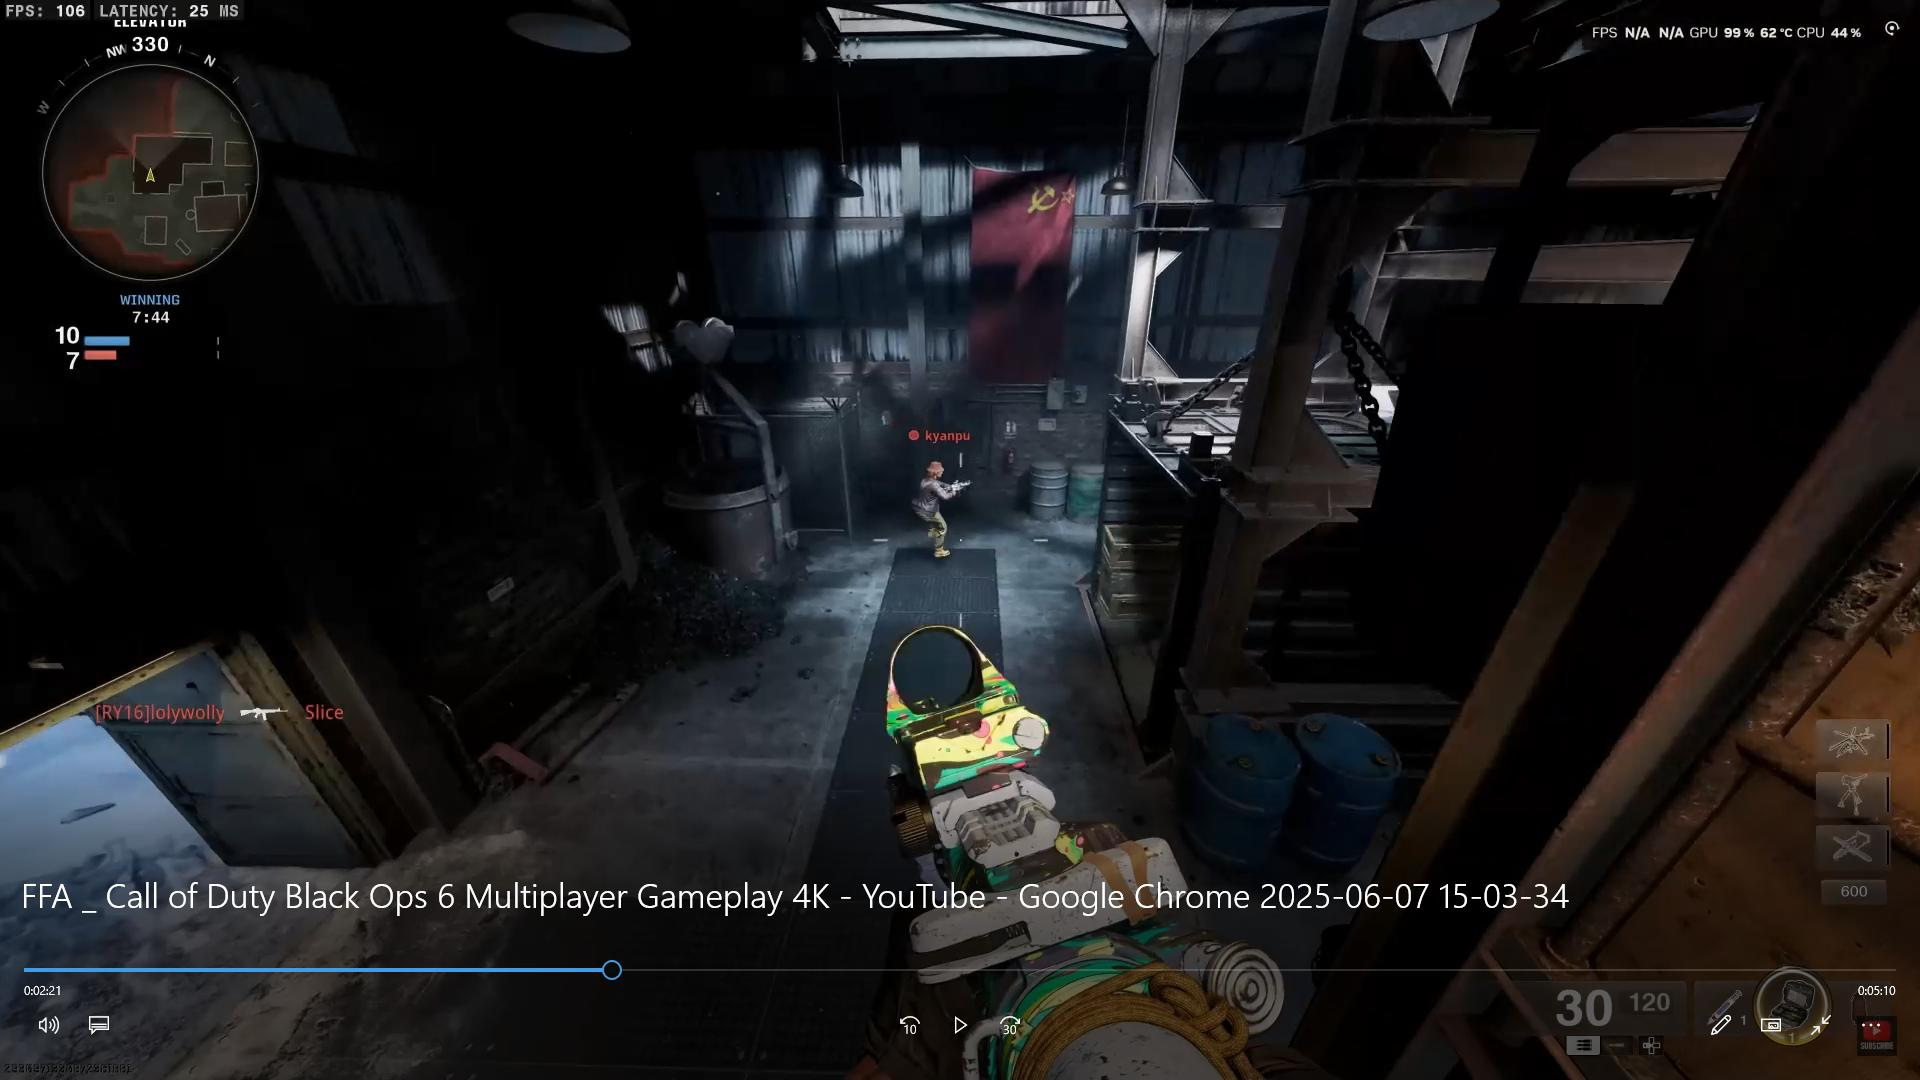Enemy: (897, 450, 973, 567)
